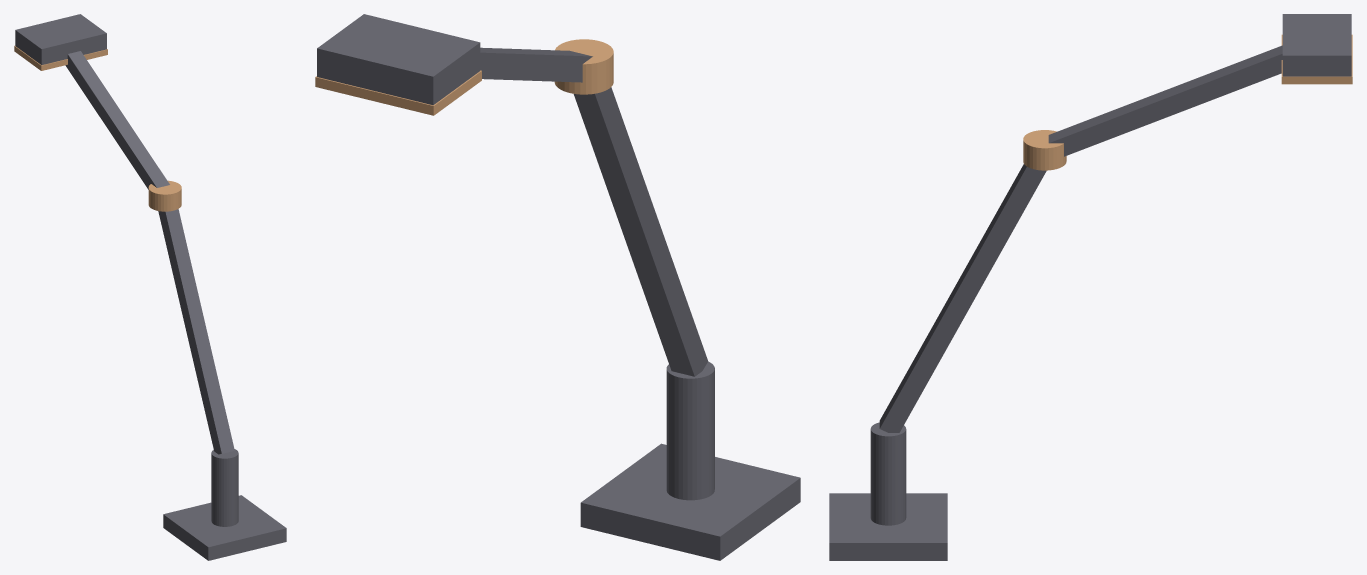
3 renders of one model, left to right at view 1: azimuth 30°, elevation 25°; view 2: azimuth 150°, elevation 25°; view 3: azimuth 270°, elevation 25°, orthographic. The views are drawn at different scales.
Parts seen in each view (by area): view 1: LowerArm, Base, UpperArm, Head, Stem, Joint, HeadRim; view 2: Base, LowerArm, Head, Stem, UpperArm, Joint, HeadRim; view 3: LowerArm, Base, UpperArm, Head, Stem, Joint, HeadRim.
Part boxes in pixels (x1=…): LowerArm: x1=158, y1=209, x2=234, y2=454; Base: x1=163, y1=495, x2=286, y2=560; UpperArm: x1=65, y1=51, x2=169, y2=189; Head: x1=15, y1=14, x2=106, y2=65; Stem: x1=211, y1=449, x2=238, y2=526; Joint: x1=148, y1=180, x2=181, y2=211; HeadRim: x1=14, y1=45, x2=107, y2=70; Base: x1=580, y1=443, x2=800, y2=560; LowerArm: x1=573, y1=87, x2=708, y2=376; Head: x1=317, y1=14, x2=480, y2=105; Stem: x1=666, y1=361, x2=714, y2=500; UpperArm: x1=480, y1=47, x2=592, y2=82; Joint: x1=554, y1=39, x2=613, y2=94; HeadRim: x1=315, y1=70, x2=481, y2=115; LowerArm: x1=879, y1=164, x2=1046, y2=432; Base: x1=829, y1=493, x2=947, y2=560; UpperArm: x1=1048, y1=45, x2=1282, y2=156; Head: x1=1282, y1=14, x2=1351, y2=76; Stem: x1=870, y1=422, x2=906, y2=525; Joint: x1=1023, y1=130, x2=1066, y2=170; HeadRim: x1=1281, y1=34, x2=1352, y2=84.
Size of the model in its own units: 0.12 by 0.5612 by 0.5311.
